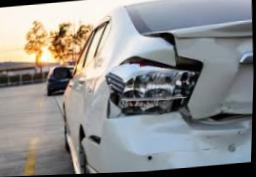Bumper: (87, 112, 253, 174)
Dickey: (139, 20, 254, 126)
Light: (107, 63, 203, 116)
